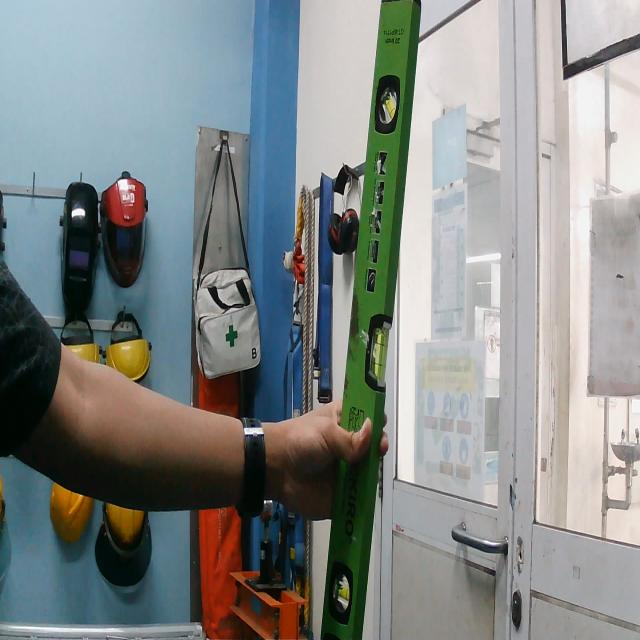water_pass: (317, 0, 425, 639)
